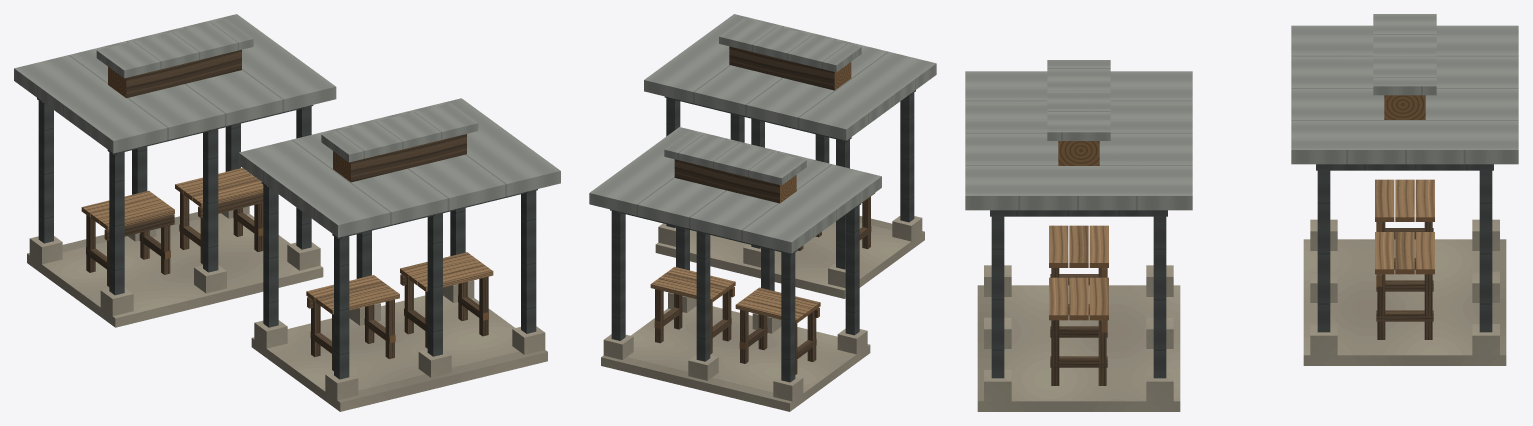
File: ashgabat.glb
The picture shows the model from 3 angles, left to right: view 1: azimuth 30°, elevation 25°; view 2: azimuth 150°, elevation 25°; view 3: azimuth 270°, elevation 25°; orthographic projection. The views are drawn at different scales.
Parts seen in each view (by area): view 1: ashgabat; view 2: ashgabat; view 3: ashgabat.
Part boxes in pixels (box(x1,y1,x2,y2)): ashgabat: box(14, 14, 560, 411); ashgabat: box(589, 14, 936, 411); ashgabat: box(965, 14, 1518, 411).
Bounding box in the file's own units: 3.54 × 2.5 × 4.86.
1 material, 1 textured.
